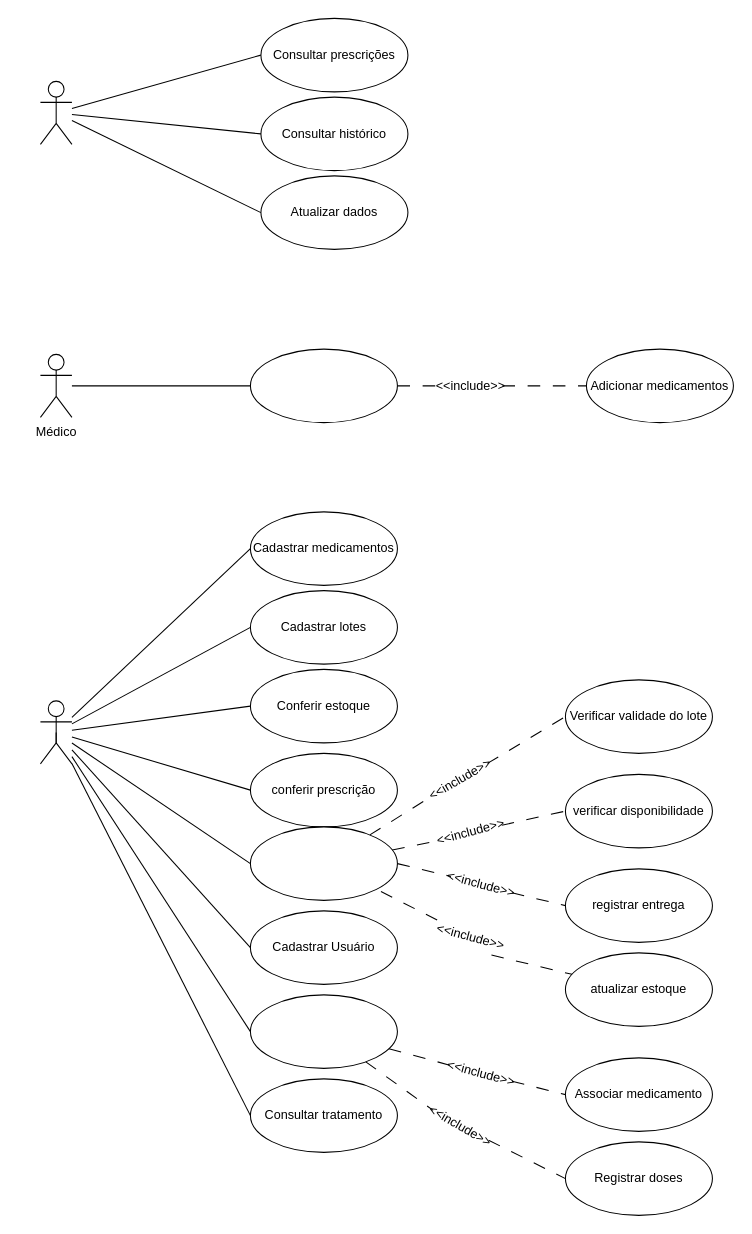
Some shapes in this 752 by 1234 pixel diagram are drawn without their labels. The shapes that lost their labels are listed below. From the top down, each one's centre as x and y in pixels, then its label:
the point at 55,112: Paciente
the point at 323,385: Criar Prescrição
the point at 55,732: Farmacêutico
the point at 323,863: realizar entrega
the point at 323,1031: Cadastrar tratamento
